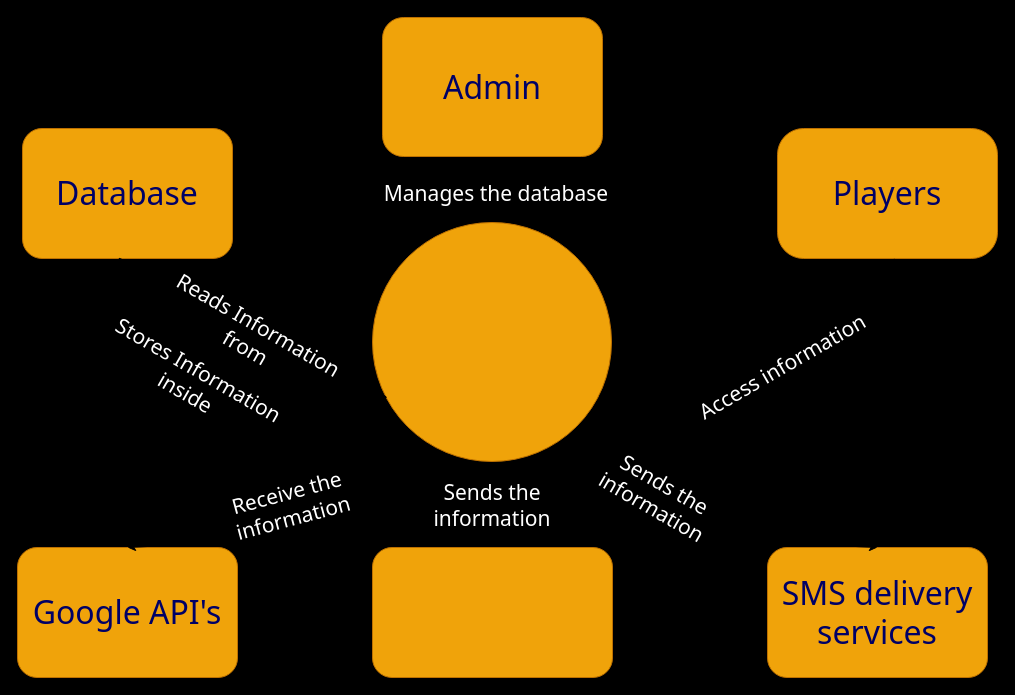
This 1015x695 diagram has some shape labels left out. The centre of each missing label's shape, as x and y in pixels:
"Classic Mafia Website" goes at point (492, 342).
"Email delivery services" goes at point (492, 612).
